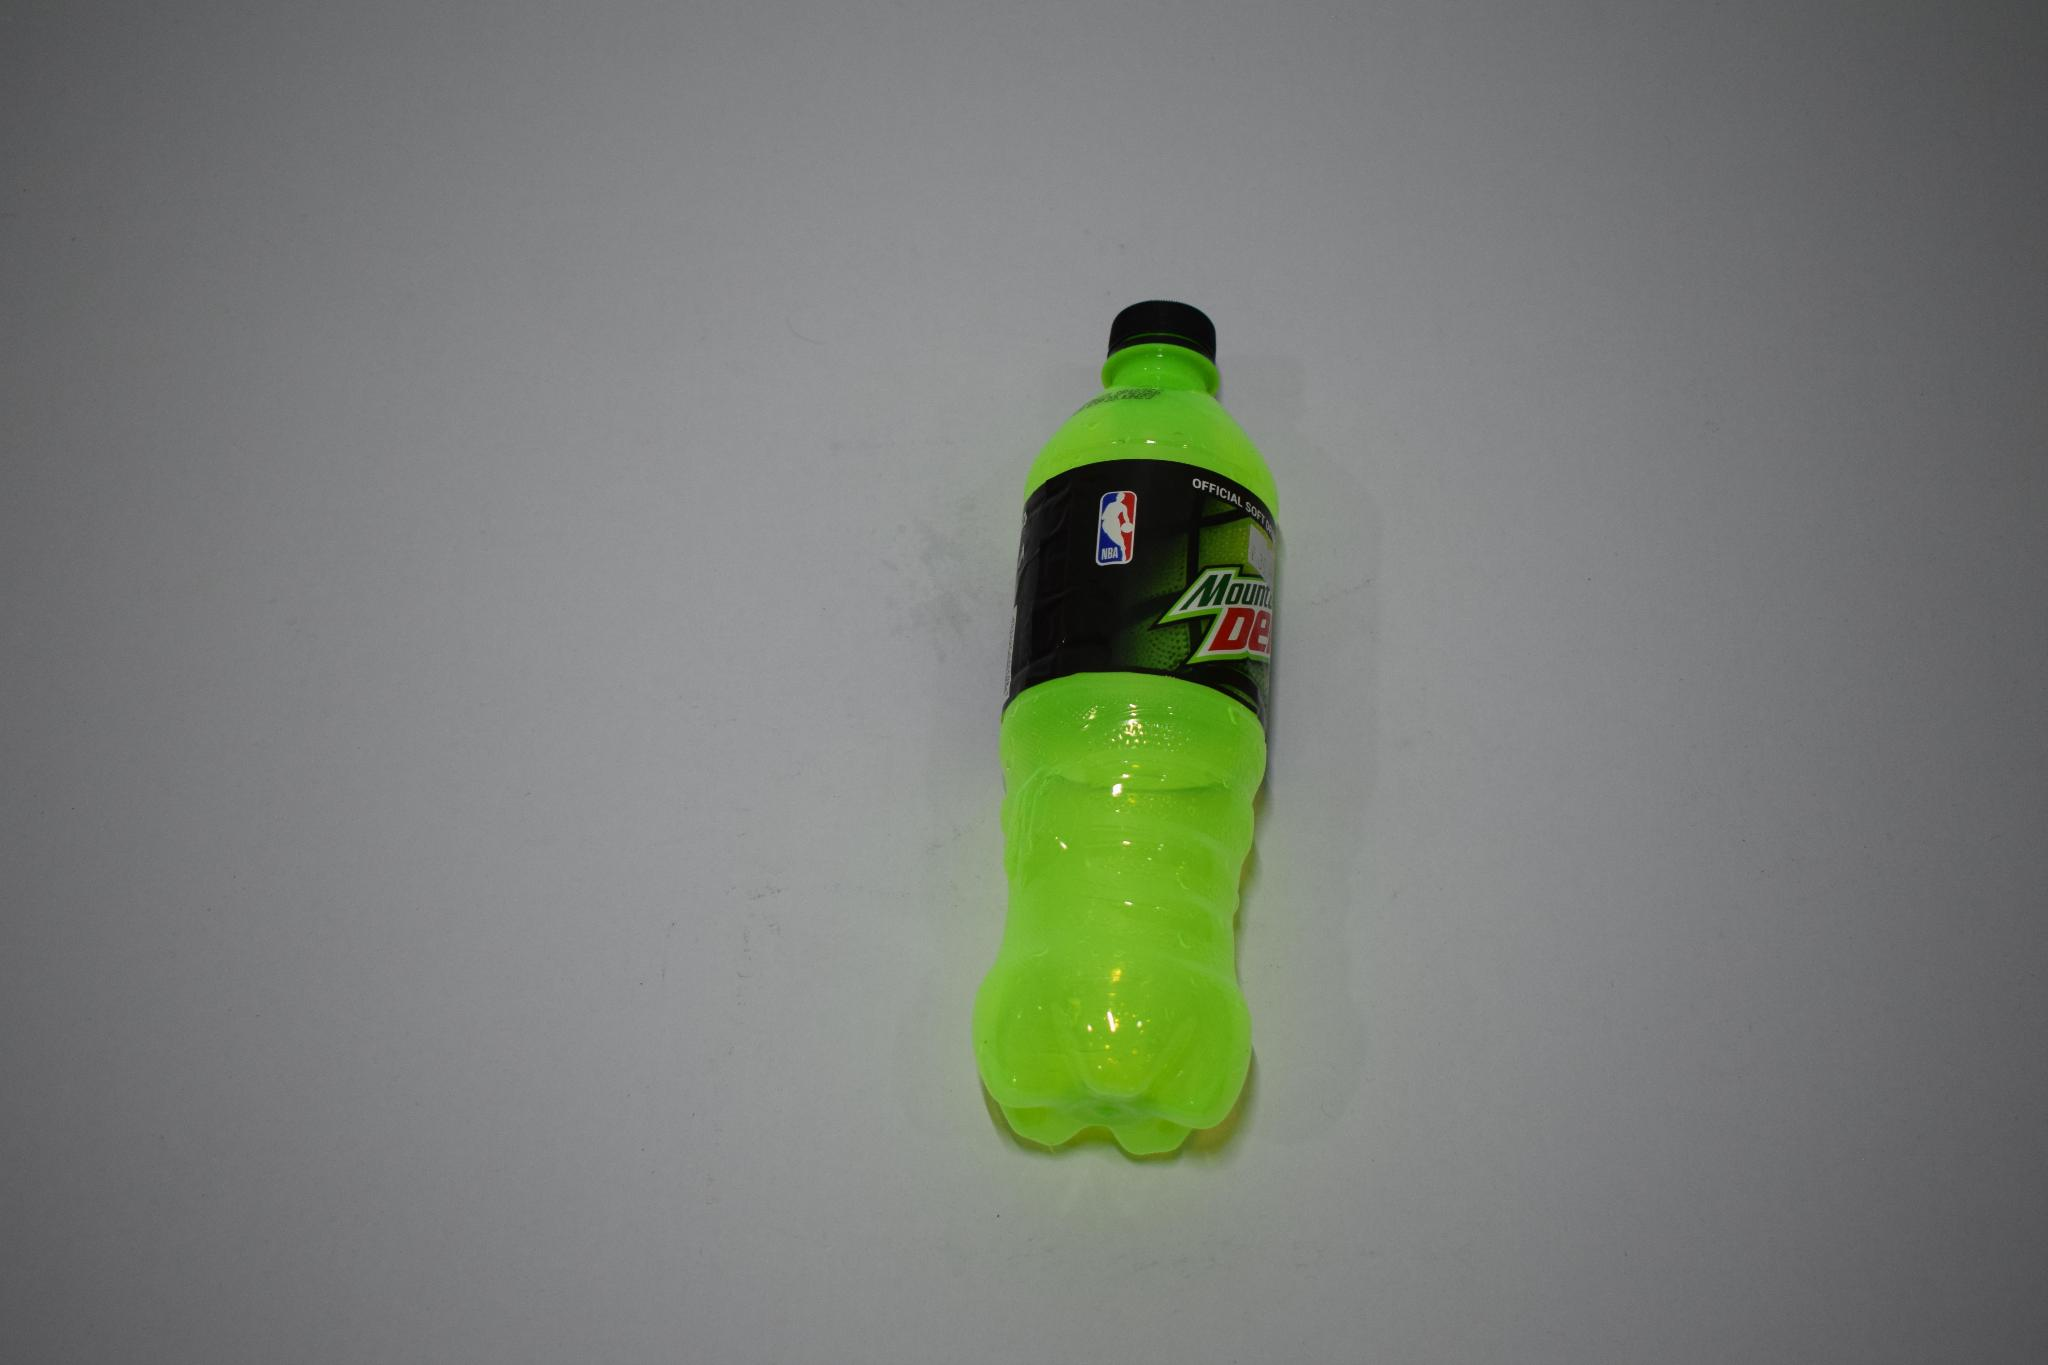bottle: (920, 276, 1312, 1198)
